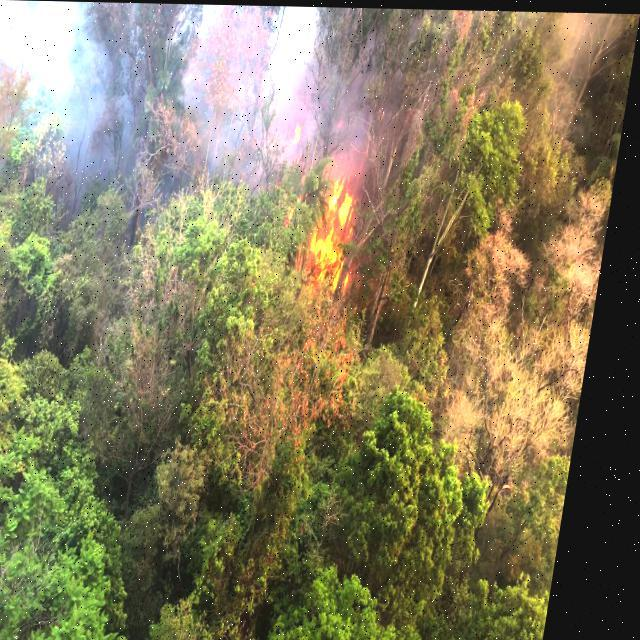Fire: (301, 160, 383, 294), (292, 104, 312, 146)
